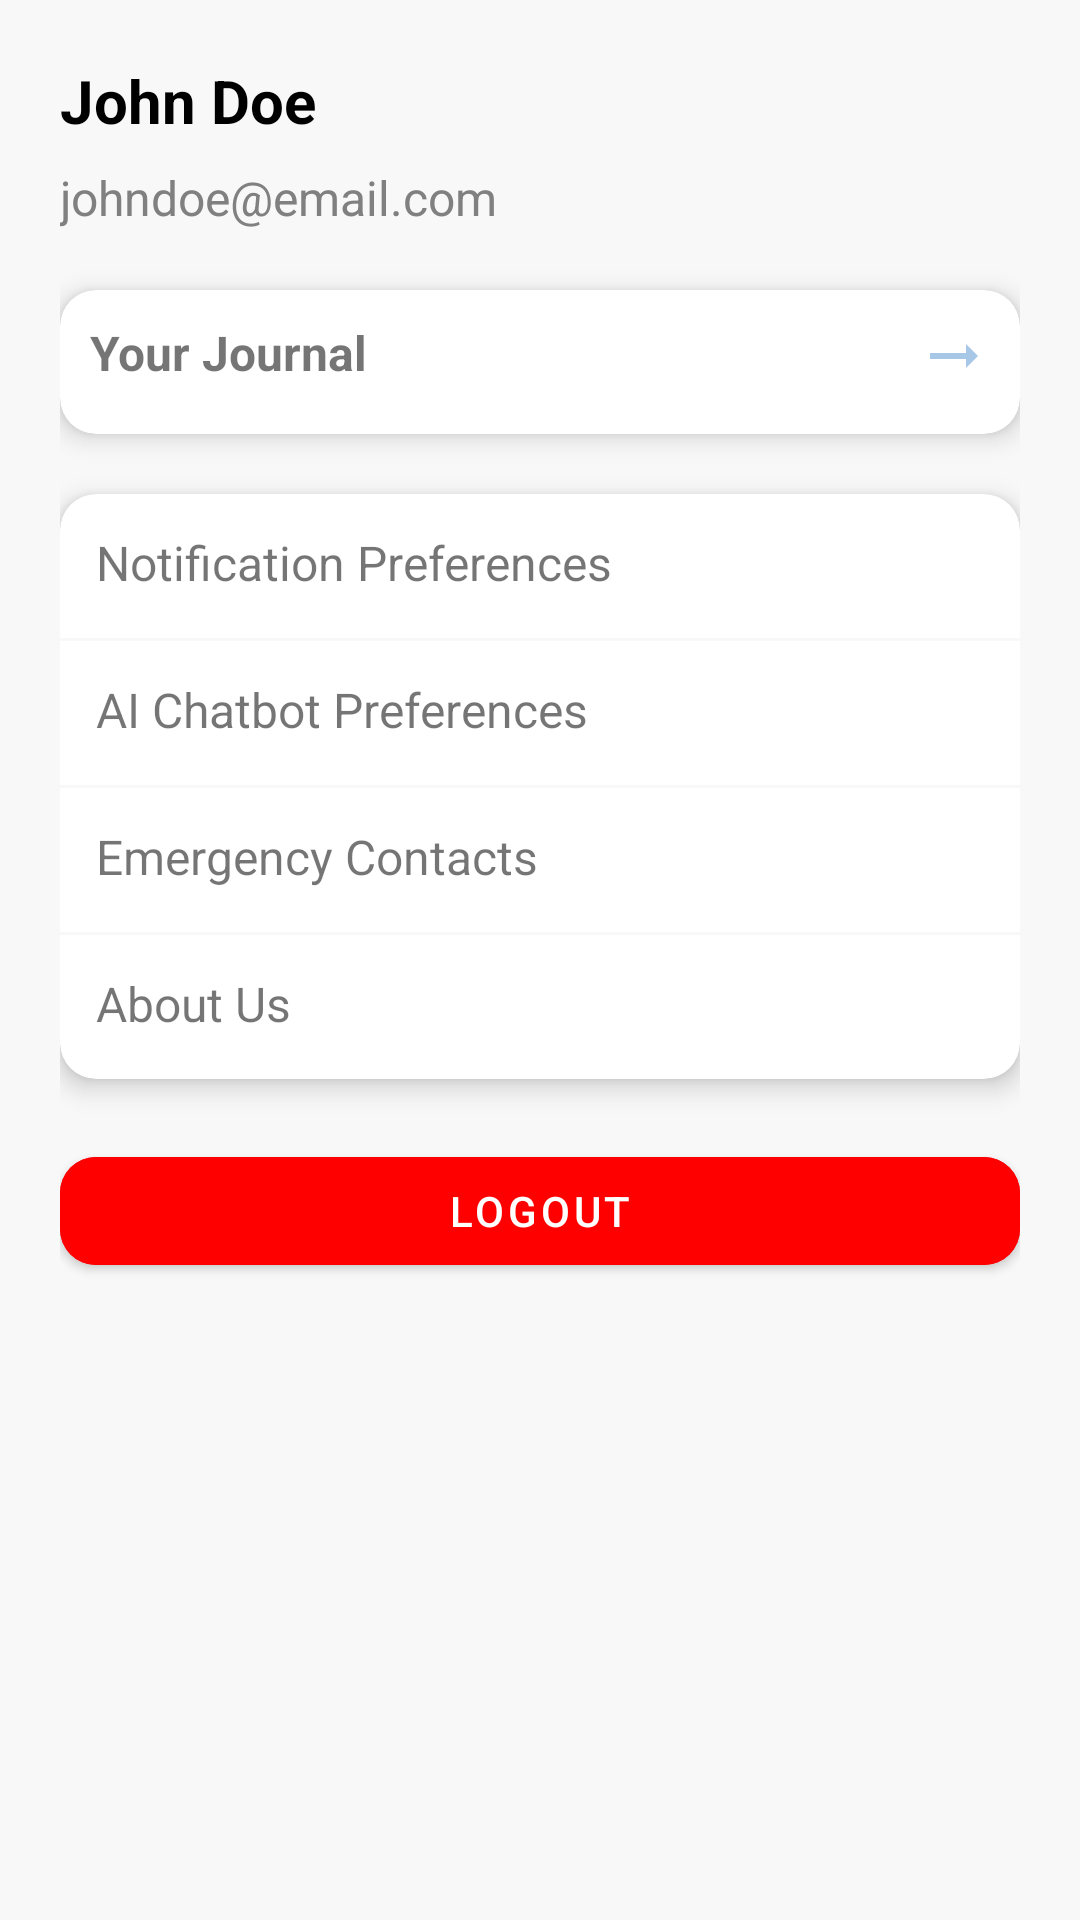

Screen size 1080*1920. Icon name, then its center in pixels as [x,y]:
right arrow: [954,356]
